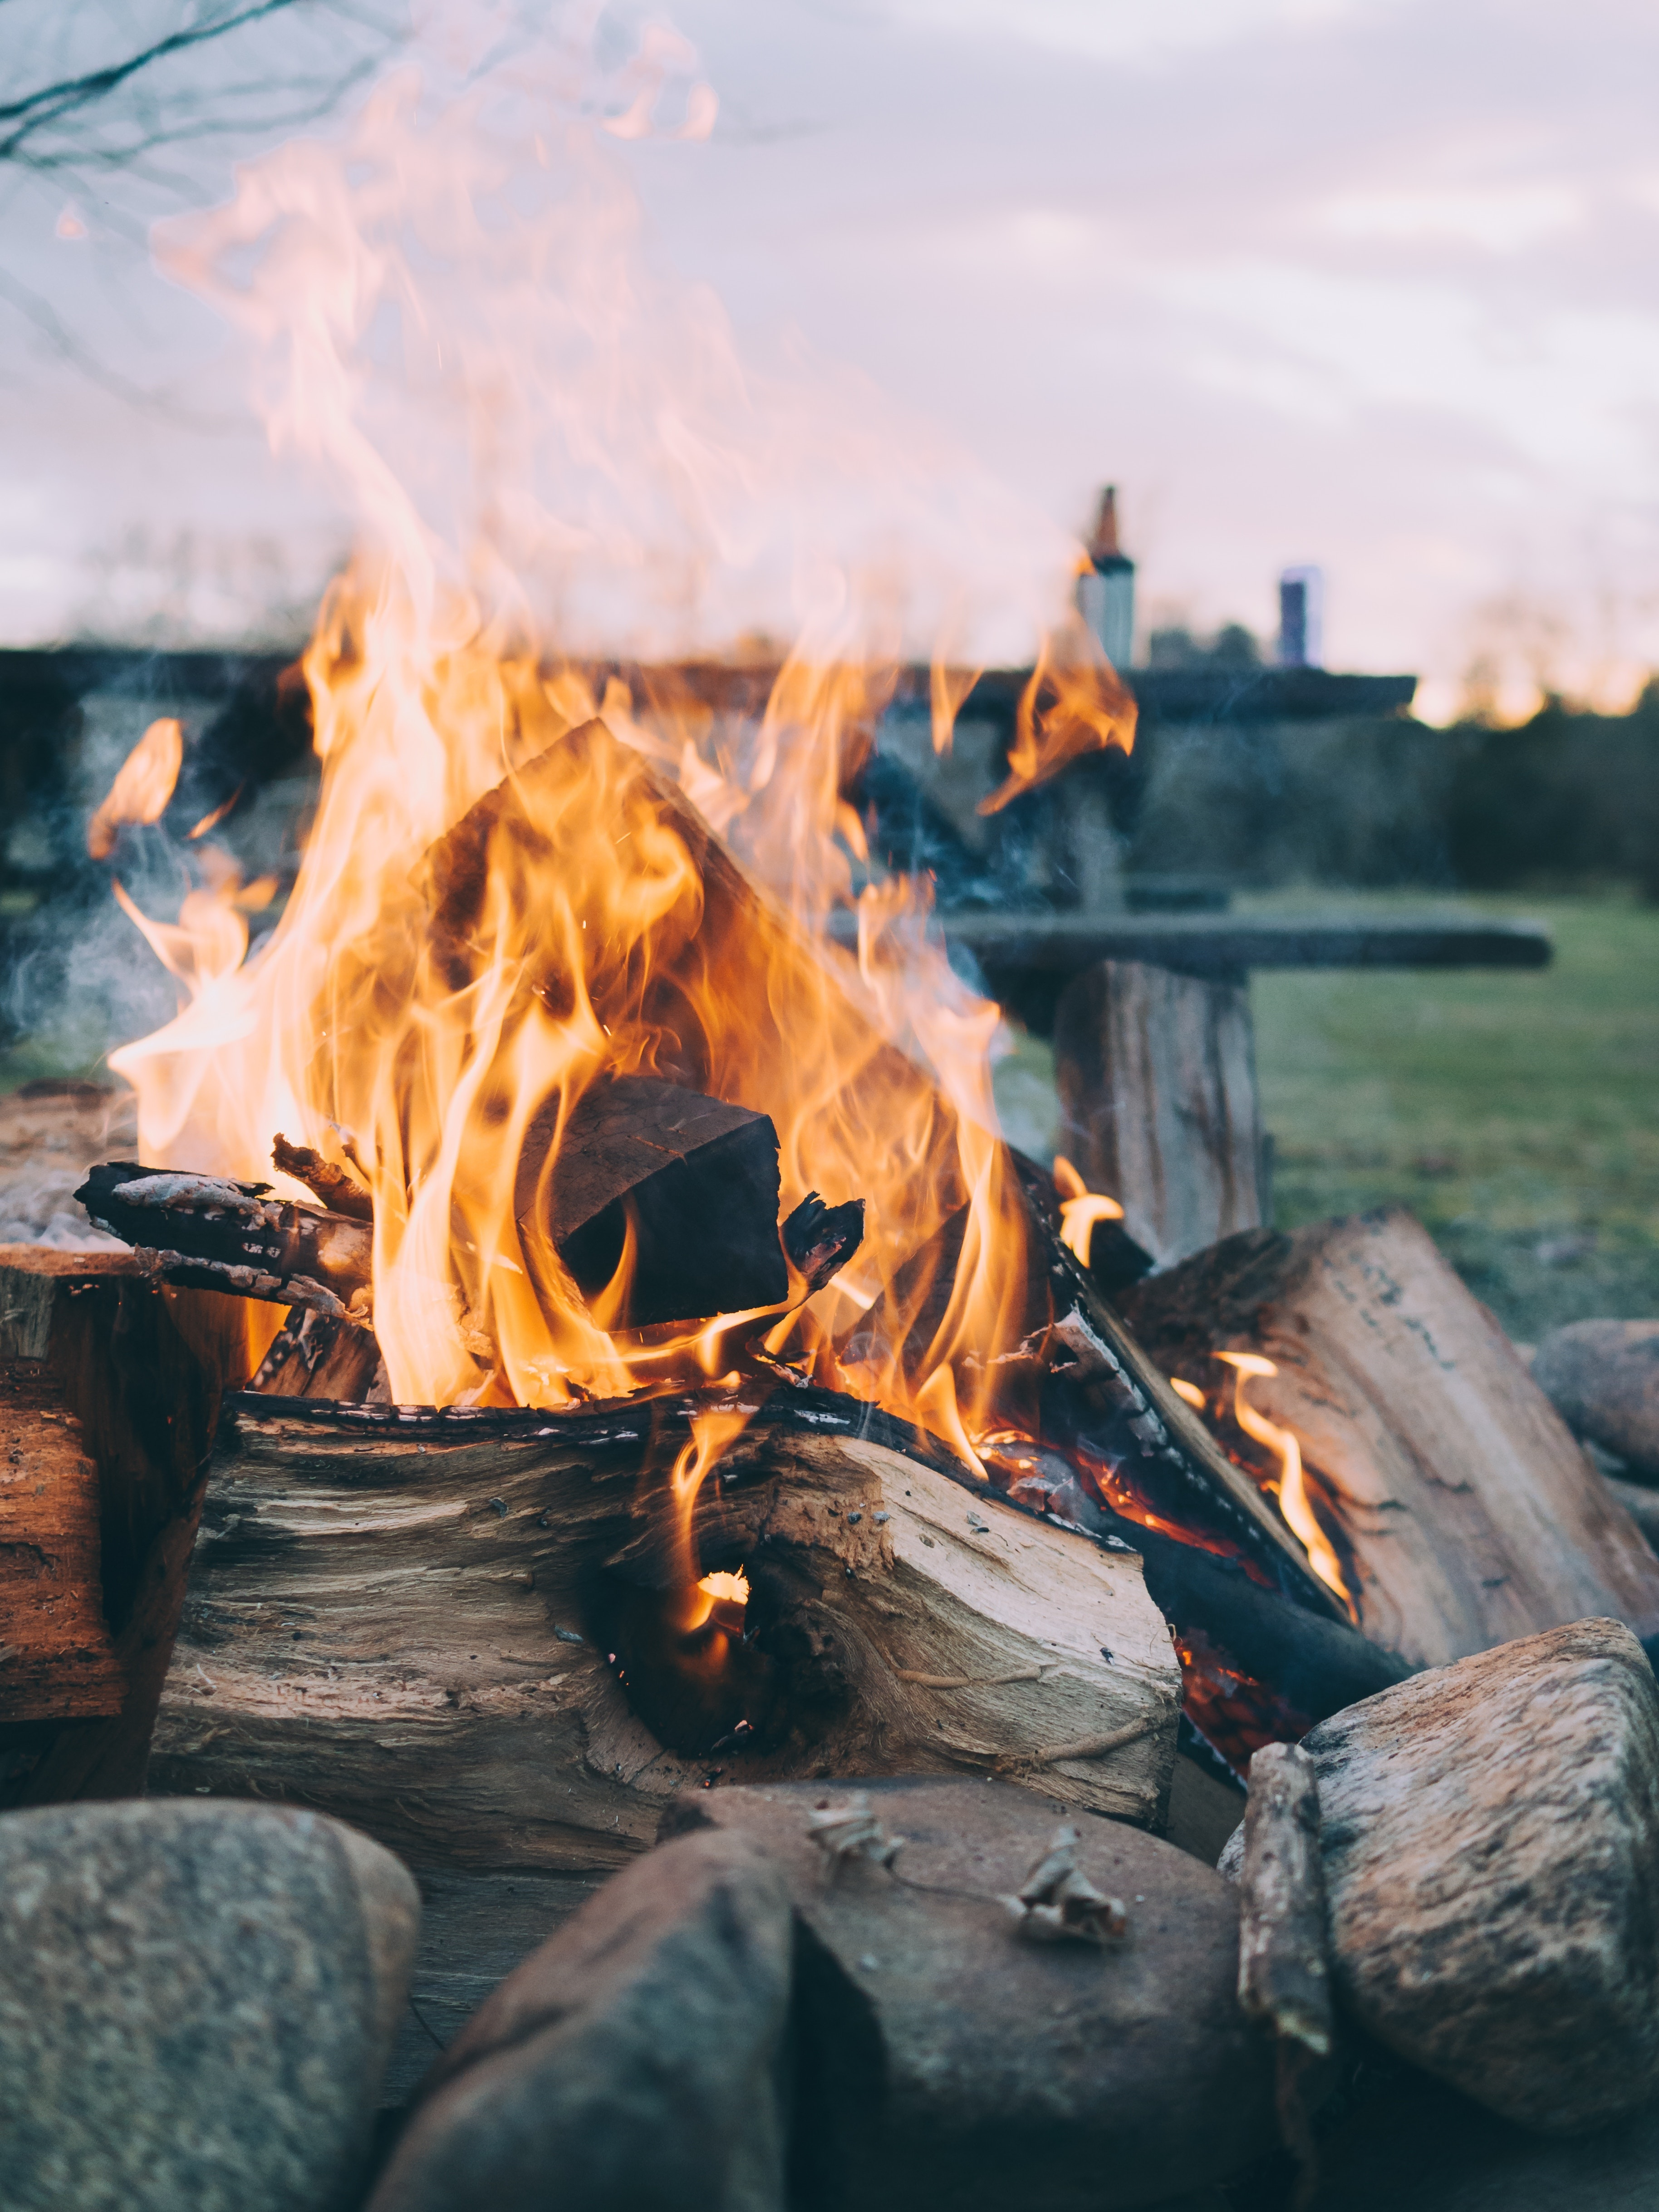fire: (71, 132, 1199, 1537)
